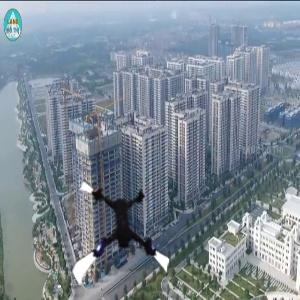drone: (69, 182, 181, 294)
